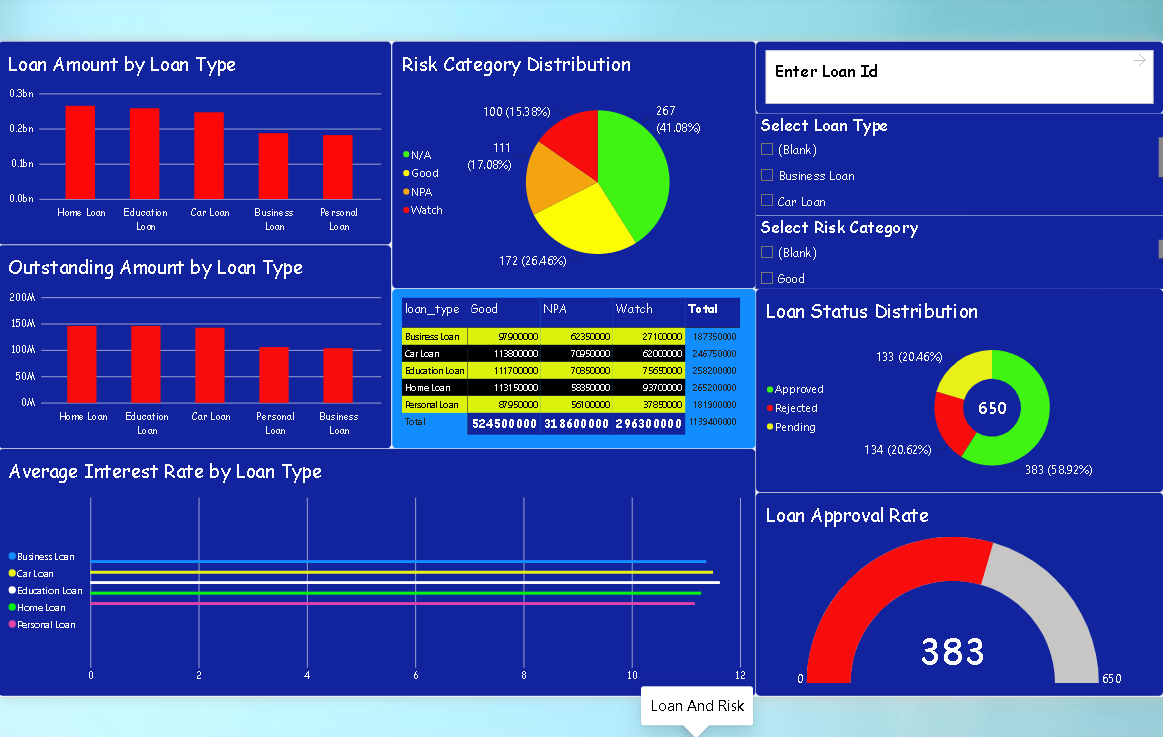

Layout of this report page (visuals, bound fields, positions):
{"tool":"powerbi","page":{"name":"Loan And Risk","canvas":[1920,1080],"ordinal":3},"visuals":[{"type":"columnChart","title":"Loan Amount by Loan Type","fields":{"Y":["loans.Approved_Amount"],"Category":["loans.loan_type"]},"box":[0,0,648,336],"z":0},{"type":"clusteredColumnChart","title":"Outstanding Amount by Loan Type","fields":{"Category":["loans.loan_type"],"Y":["loans.Outstanding_Amount_2"]},"box":[0,336,648,336],"z":1000},{"type":"donutChart","title":"Loan Status Distribution","fields":{"Category":["loans.loan_status"],"Y":["loans.Total Loans"]},"box":[1248,408,672,336],"z":2000},{"type":"gauge","title":"Loan Approval Rate","fields":{"MaxValue":["loans.Total Loans"],"Y":["loans.Total Approved Loans"]},"box":[1248,744,672,336],"z":3000},{"type":"clusteredBarChart","title":"Average Interest Rate by Loan Type","fields":{"Series":["loans.loan_type"],"Y":["Avg(loans.interest_rate)"]},"box":[0,672,1248,408],"z":4000},{"type":"pieChart","title":"Risk Category Distribution","fields":{"Category":["loans.risk_category"],"Y":["CountNonNull(loans.loan_type)"]},"box":[648,0,600,408],"z":5000},{"type":"pivotTable","fields":{"Rows":["loans.loan_type"],"Values":["loans.Approved_Amount"],"Columns":["loans.risk_category"]},"box":[648,408,600,264],"z":6000},{"type":"textSlicer","title":"Loan Status Distribution","fields":{"Values":["loans.loan_id"]},"box":[1248,0,672,120],"z":7000},{"type":"slicer","title":"Loan Status Distribution","fields":{"Values":["loans.loan_type"]},"box":[1248,120,672,168],"z":8000},{"type":"slicer","title":"Loan Status Distribution","fields":{"Values":["loans.risk_category"]},"box":[1248,288,672,120],"z":9000}]}

Visuals, with their boxes on the page's 1920x1080 design canvas (x1, y1, x2, y2). These are canvas units, not pixel positions in the 1163x737 screenshot, which may show the page scaled, cropped or inside an application window:
"Loan Amount by Loan Type" columnChart: l=0, t=0, r=648, b=336
"Outstanding Amount by Loan Type" clusteredColumnChart: l=0, t=336, r=648, b=672
"Loan Status Distribution" donutChart: l=1248, t=408, r=1920, b=744
"Loan Approval Rate" gauge: l=1248, t=744, r=1920, b=1080
"Average Interest Rate by Loan Type" clusteredBarChart: l=0, t=672, r=1248, b=1080
"Risk Category Distribution" pieChart: l=648, t=0, r=1248, b=408
pivotTable - loans.loan_type x loans.Approved_Amount: l=648, t=408, r=1248, b=672
"Loan Status Distribution" textSlicer: l=1248, t=0, r=1920, b=120
"Loan Status Distribution" slicer: l=1248, t=120, r=1920, b=288
"Loan Status Distribution" slicer: l=1248, t=288, r=1920, b=408
